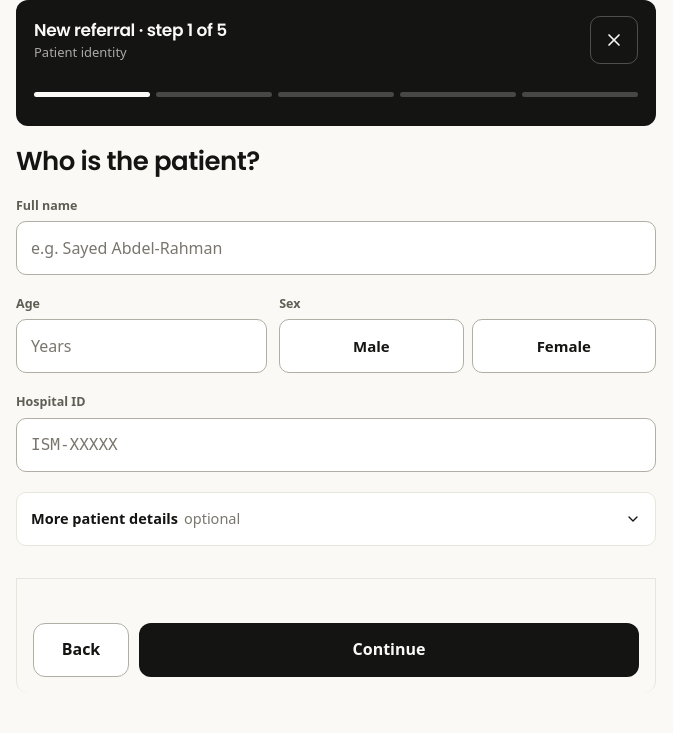
Test: Milestone 2 - Unified Referral Intake Wizard › NewReferralPage Full E2E & Contract Verification › starts with neither sex selected and will not continue until one is chosen
The width and height of the screenshot is (673, 733).
Expected: the radio button labelled "Male" is not checked, top-left (279, 319), bottom-right (464, 373)
Expected: the radio button labelled "Female" is not checked, top-left (472, 319), bottom-right (656, 373)
In the field labelled "Full name": point(336, 248) top-left (16, 221), bottom-right (656, 275), type "Sayed Abdel-Rahman"
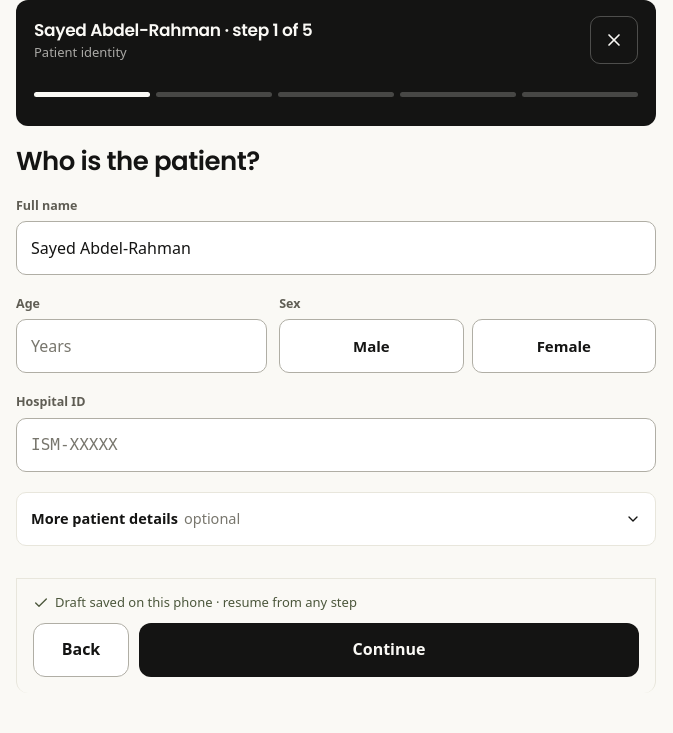
In the number field labelled "Age": point(142, 346) top-left (16, 319), bottom-right (267, 373), type "58"
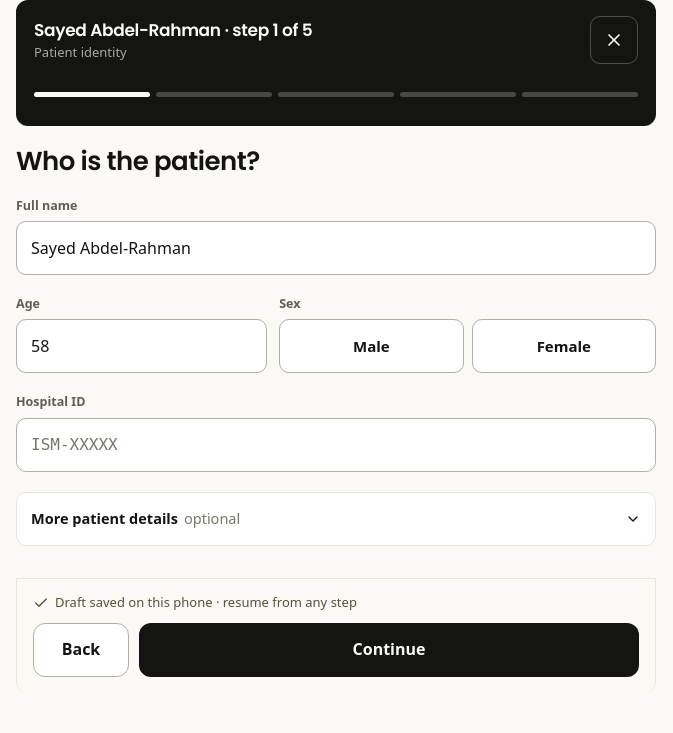
In the field with id "hospitalId": point(336, 445) top-left (16, 418), bottom-right (656, 472), type "ISM-98231"
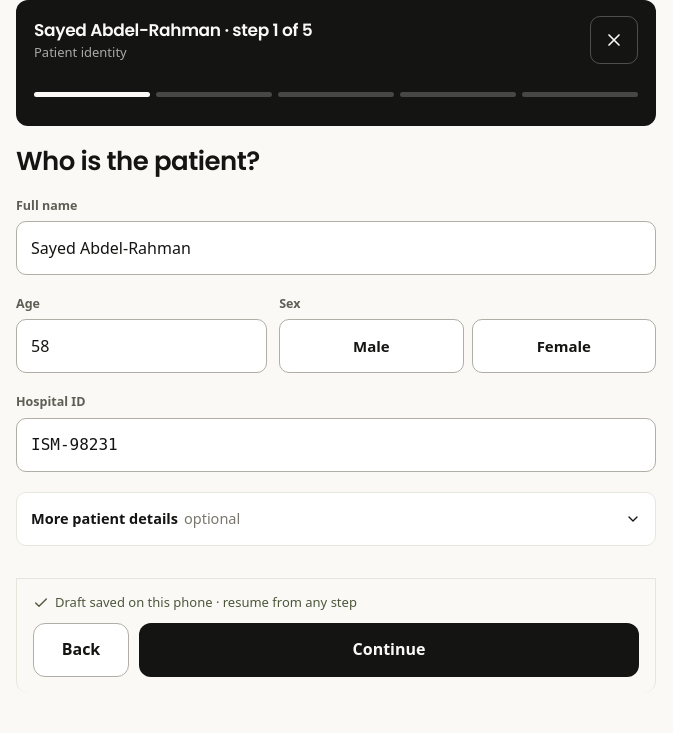
Click the button "Continue": point(389, 650) top-left (139, 623), bottom-right (639, 677)
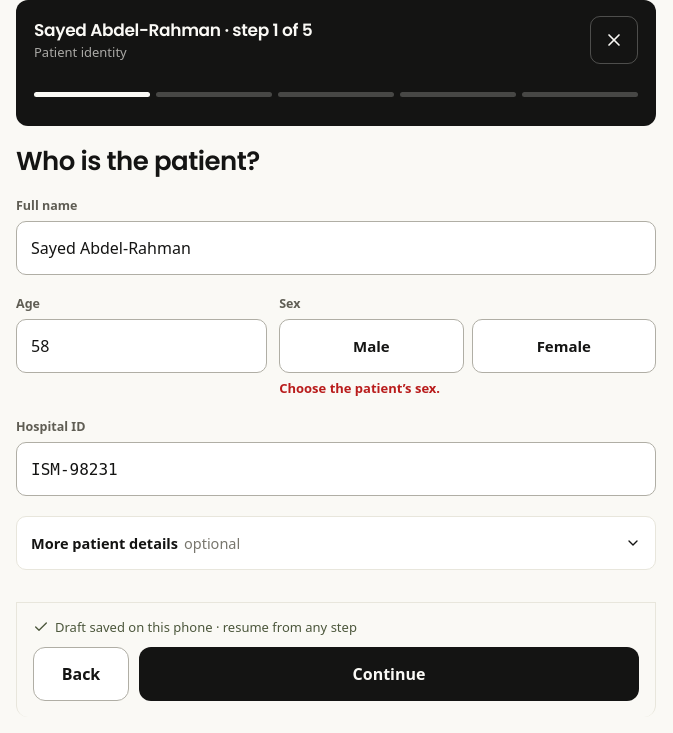
Now the text "Choose the patient’s sex." is shown, box top-left (279, 379), bottom-right (440, 397)
Click the radio button labelled "Male": point(371, 346) top-left (279, 319), bottom-right (464, 373)
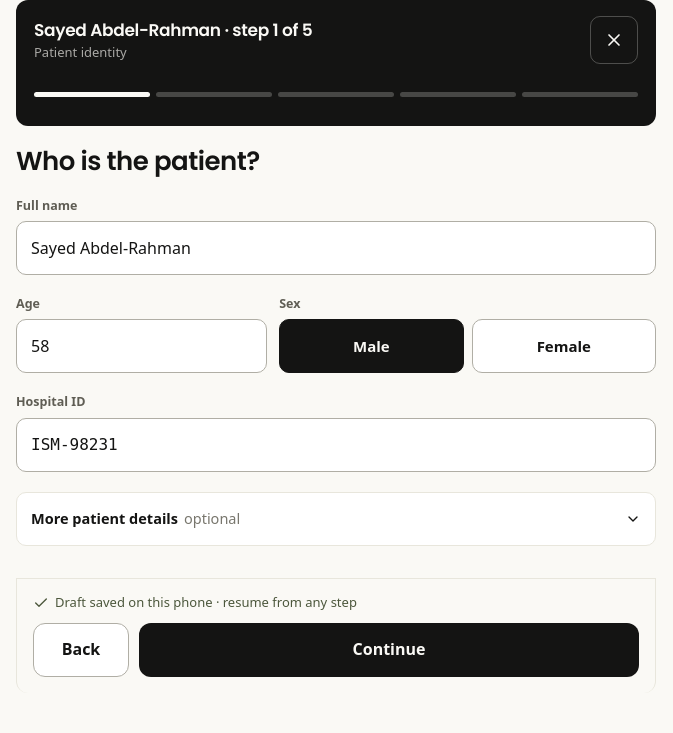
Now the radio button labelled "Male" is checked, box top-left (279, 319), bottom-right (464, 373)
Click the button "Continue": point(389, 650) top-left (139, 623), bottom-right (639, 677)
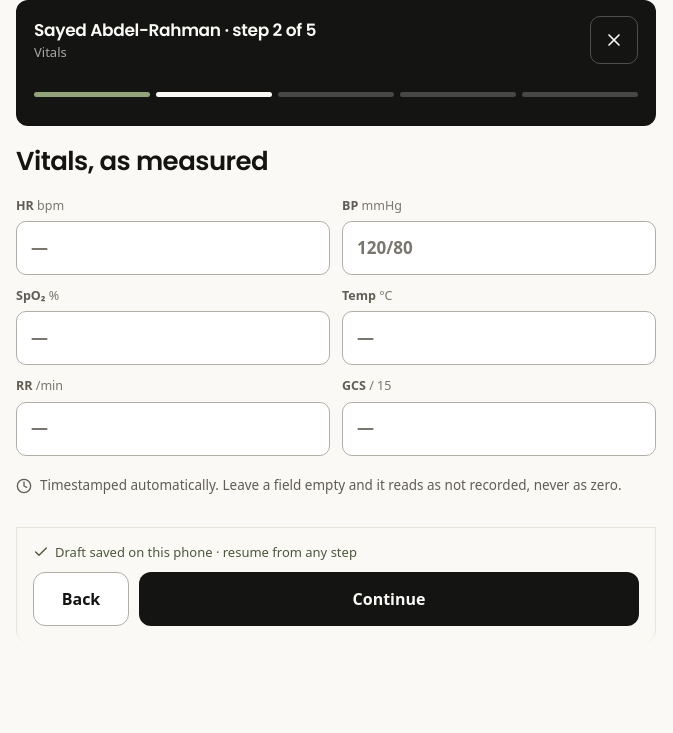
Now the number field labelled "HR bpm" is shown, box top-left (16, 221), bottom-right (330, 275)
